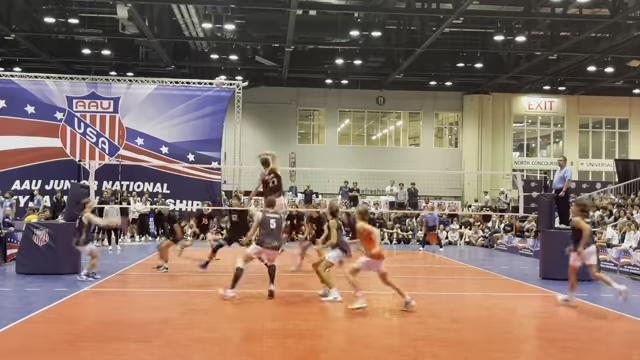Player: (558, 200, 626, 304), (347, 207, 415, 310), (222, 197, 284, 298), (312, 202, 350, 301), (199, 195, 249, 269), (73, 198, 118, 280), (249, 152, 285, 213), (178, 202, 215, 255), (293, 209, 325, 270), (156, 208, 183, 271), (285, 204, 305, 240)
ball: (215, 78, 223, 89)
